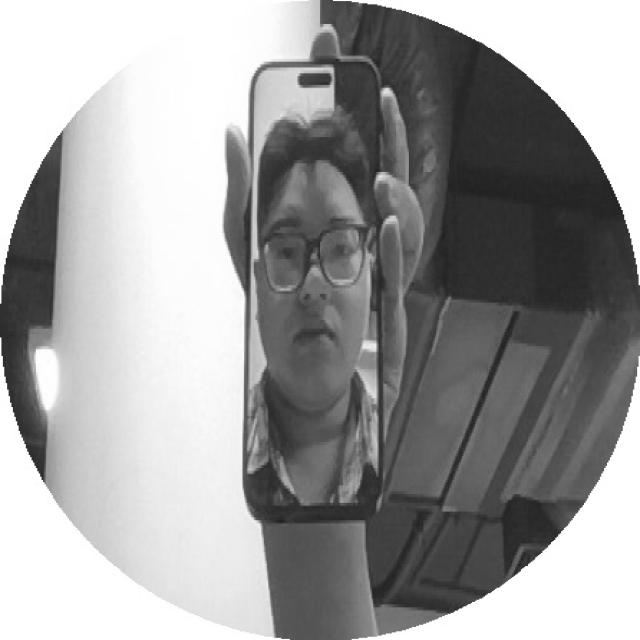fake: (215, 46, 414, 530), (238, 56, 389, 527)
